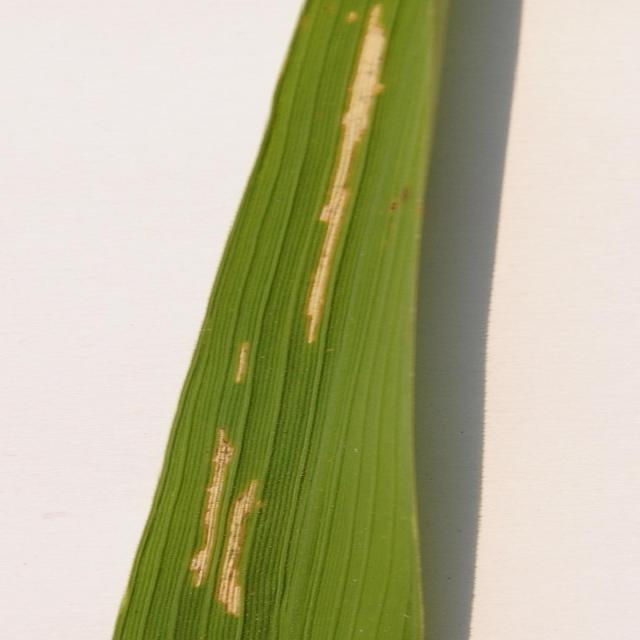Bacterial leaf blight: (285, 5, 401, 353), (174, 419, 250, 604), (207, 458, 281, 632), (225, 333, 260, 398)
